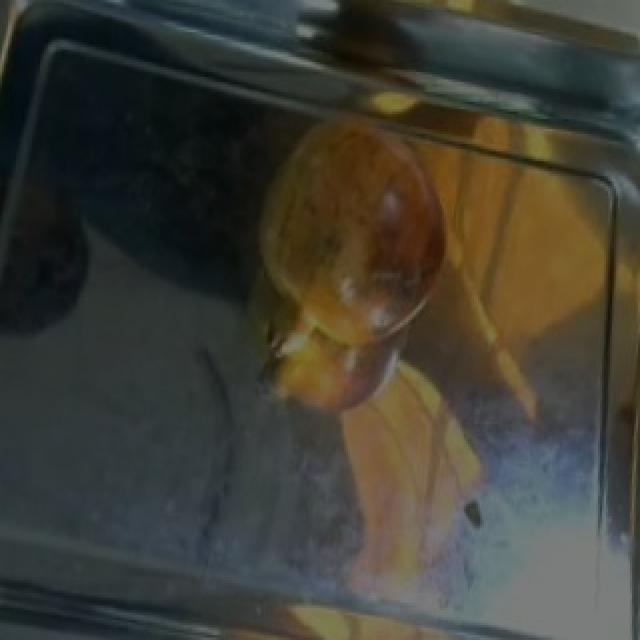fruit: (238, 89, 468, 367)
